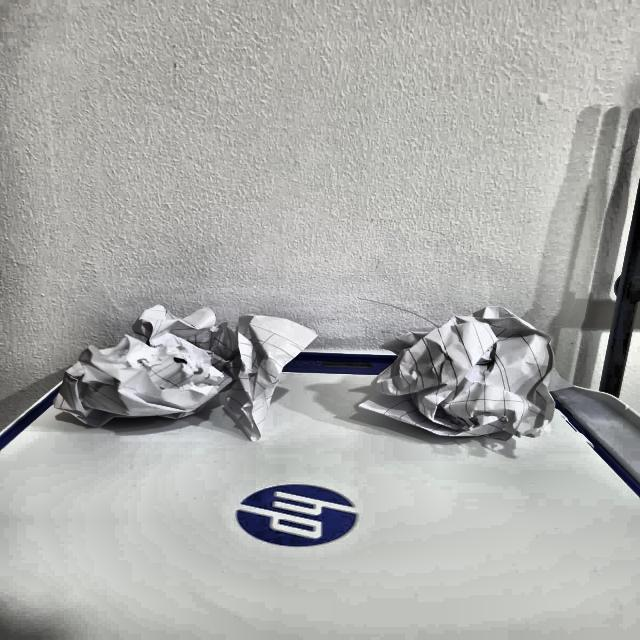Paper: (59, 302, 311, 438), (378, 302, 560, 453)
